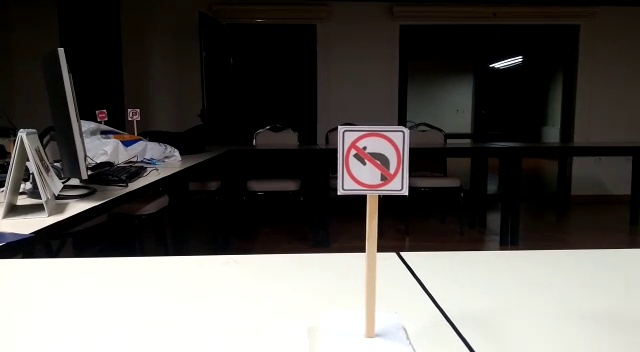sola_donulmez: (343, 135, 399, 189)
